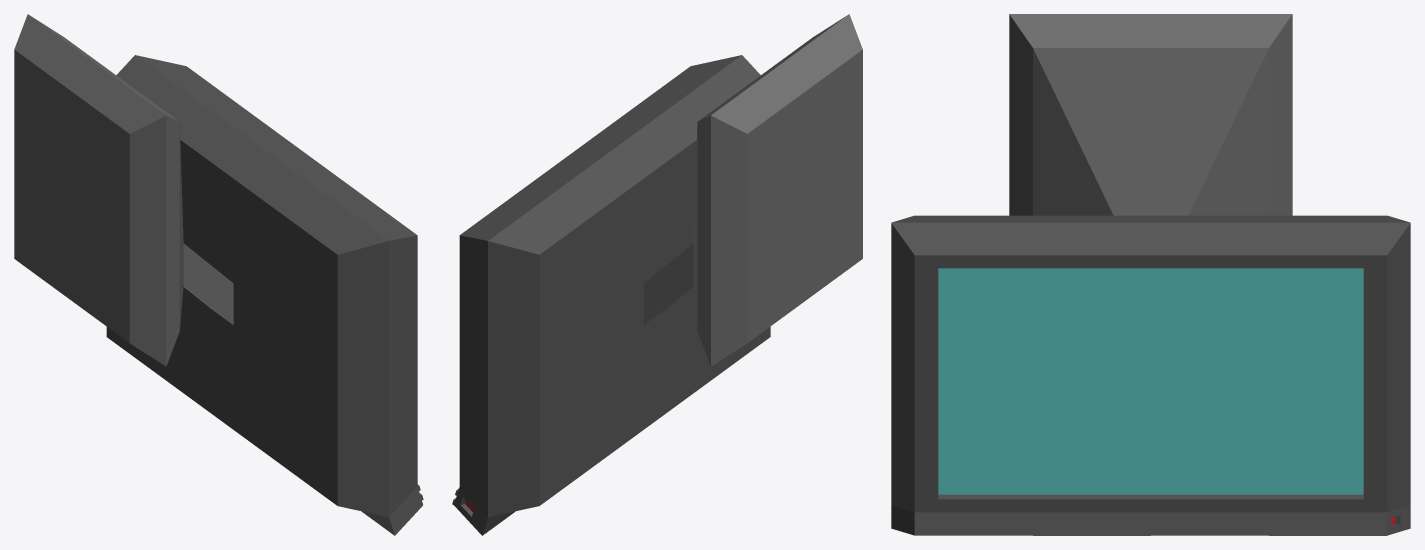
The model's file is Wall Television.fbx.
The picture shows the model from 3 angles, left to right: view 1: azimuth 30°, elevation 25°; view 2: azimuth 150°, elevation 25°; view 3: azimuth 270°, elevation 25°; orthographic projection. The views are drawn at different scales.
Parts seen in each view (by area): view 1: Wall Television, Tv Wall Mount; view 2: Wall Television, Tv Wall Mount; view 3: Wall Television, Tv Wall Mount.
Part boxes in pixels (x1,y1,x2,y2): Wall Television: [106, 55, 423, 535]; Tv Wall Mount: [14, 14, 233, 366]; Wall Television: [452, 55, 770, 535]; Tv Wall Mount: [643, 14, 862, 366]; Wall Television: [891, 215, 1410, 535]; Tv Wall Mount: [1009, 14, 1292, 215].
Size of the model in its own units: 238 by 401 by 440.
